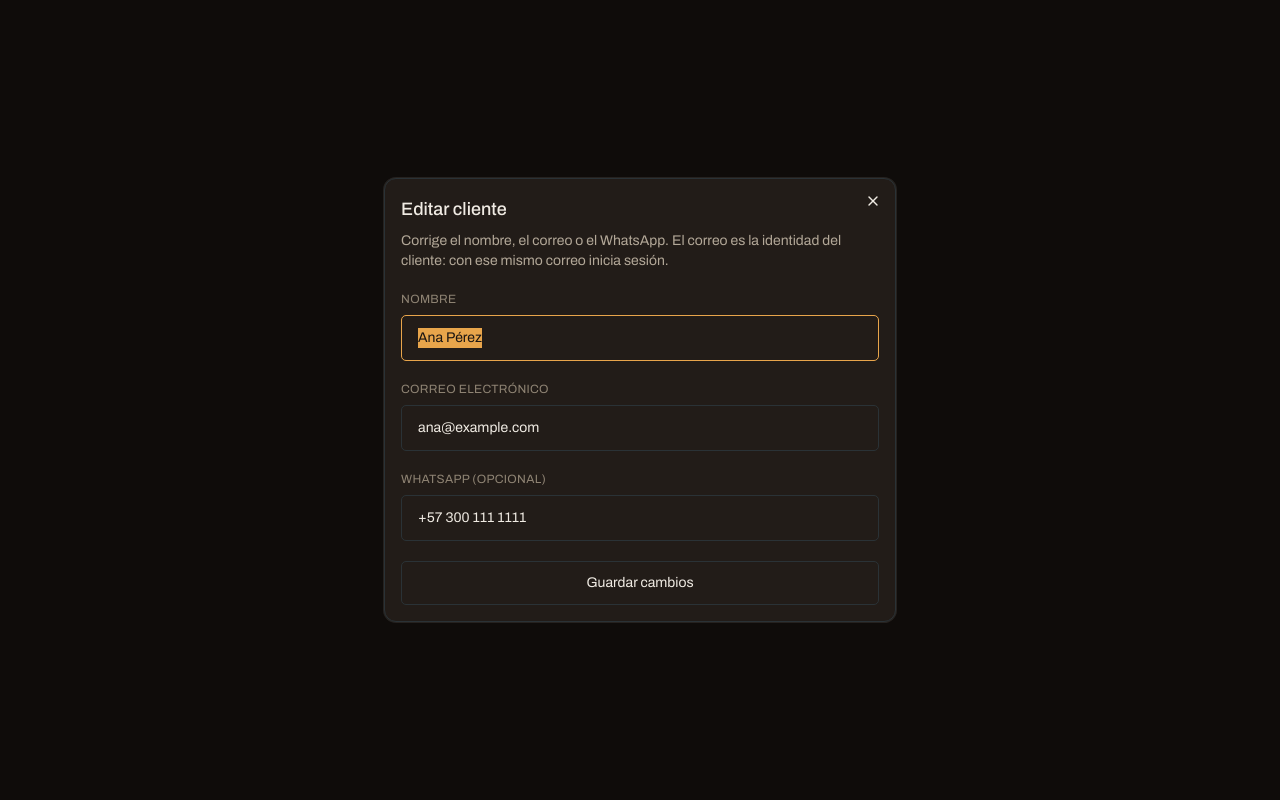
Test: EditClientDialog › shows the email-change notice only once the typed email differs
This screenshot has width=1280, height=800.
Expected: the text "identidad para entrar" is not shown
Clear the field labelled "Correo electrónico". click: (640,428)
box: [401,405,879,451]
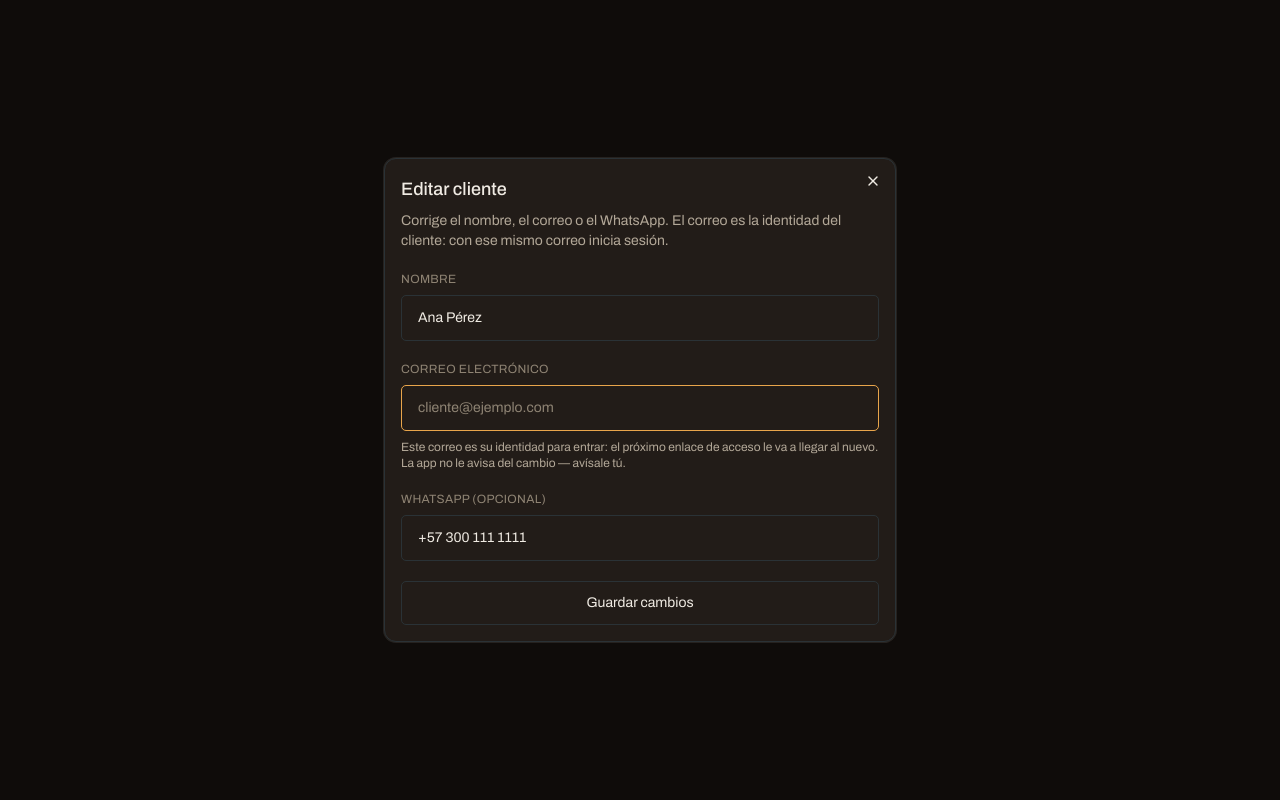
Type "ana.nueva@example.com" into the field labelled "Correo electrónico". click: (640,408)
box: [401,385,879,431]
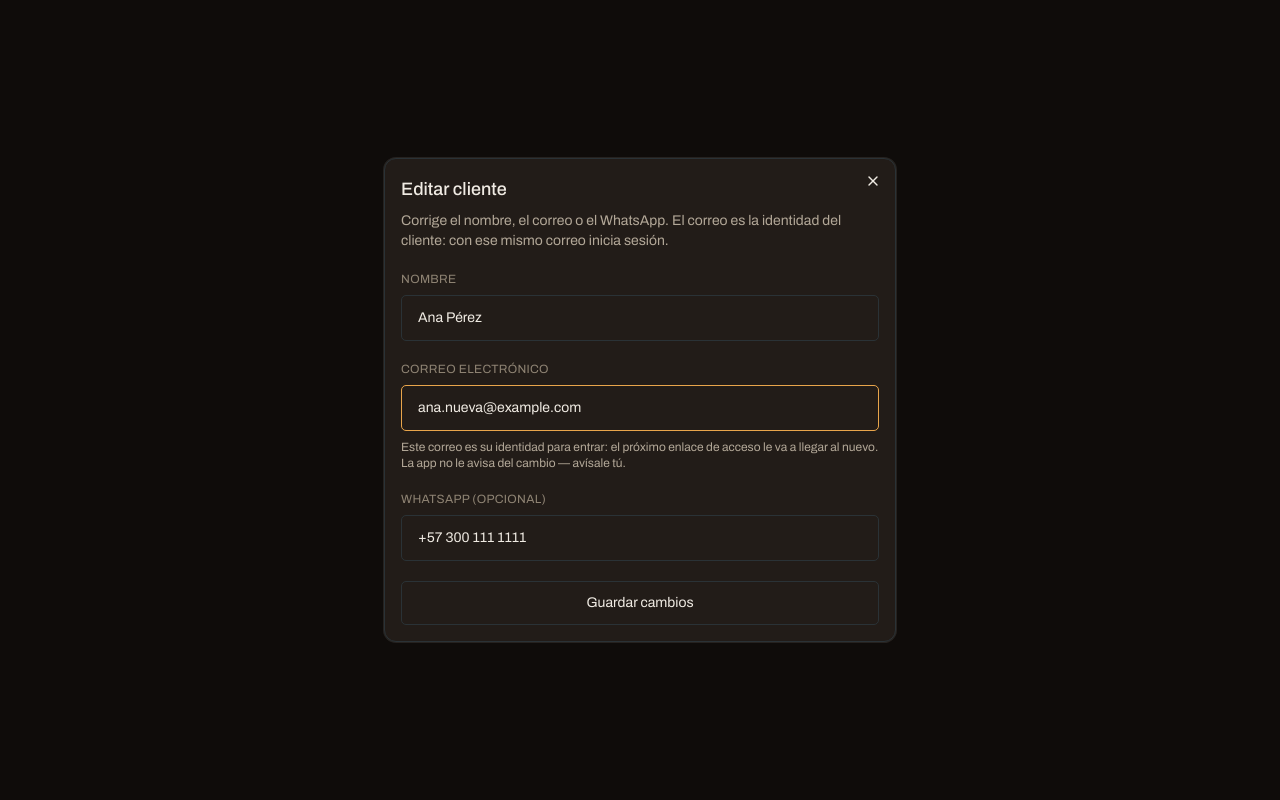
Expected: the text "identidad para entrar" is shown, [401,440,878,470]
Replace the text in the field labelled "Correo electrónico" with "  ANA@Example.COM  ". click: (640,408)
box: [401,385,879,431]
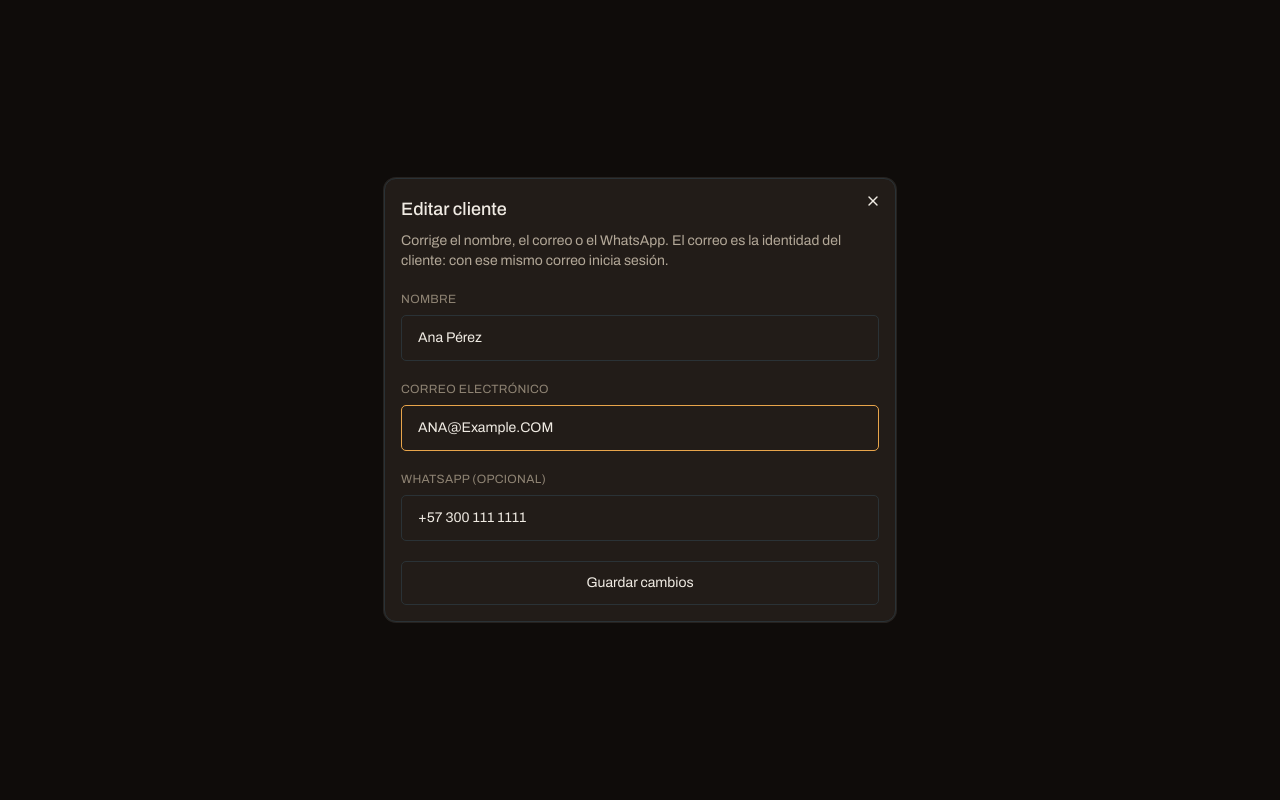
Expected: the text "identidad para entrar" is gone
